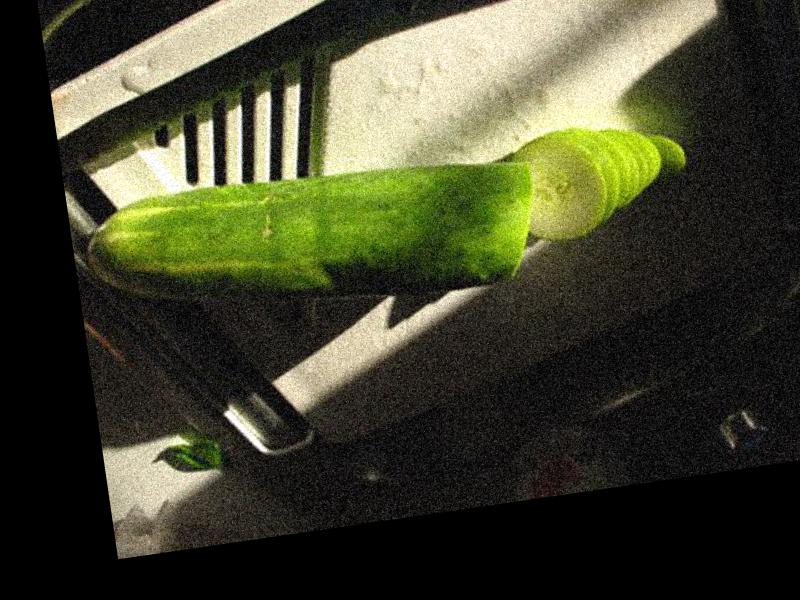Cucumber: (80, 140, 549, 340)
